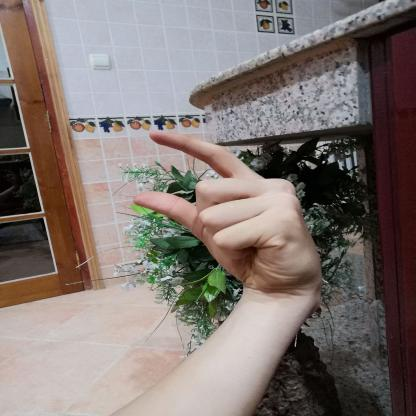DELL: (115, 126, 336, 302)
